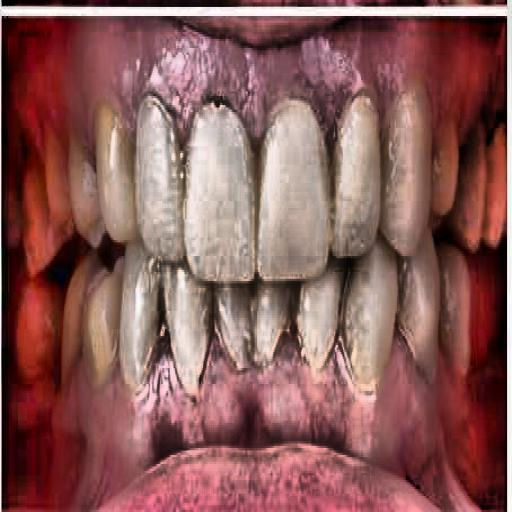Gingivitis: (22, 19, 279, 123)
